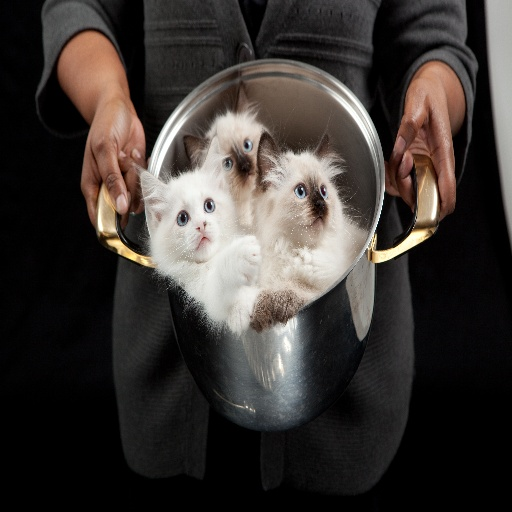hand: (389, 53, 468, 251), (78, 92, 151, 238)
